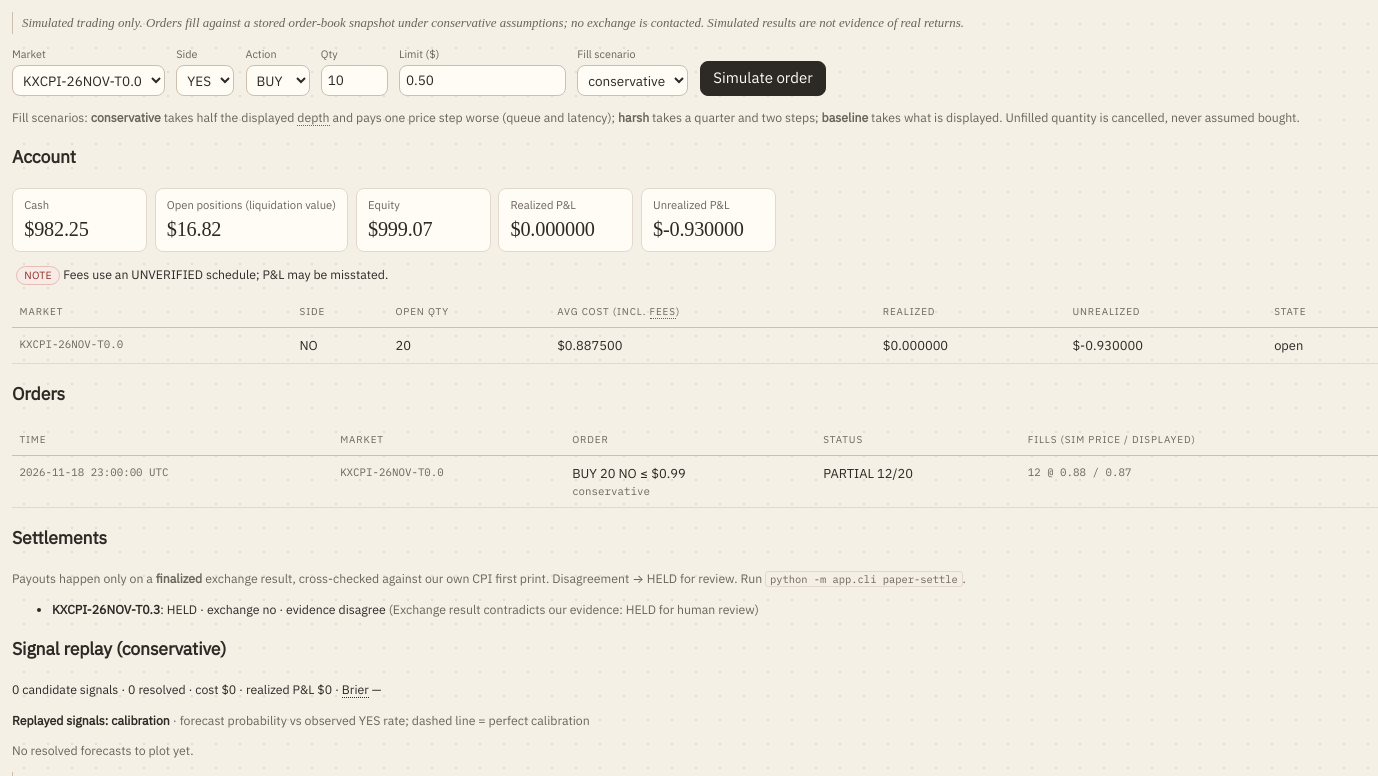
Test case: <PaperPanel> › submits a simulated order with the CSRF header, JSON body and an idempotency key
Select "NO" in the dropdown labelled "Side": (205, 80) [176, 65, 234, 96]
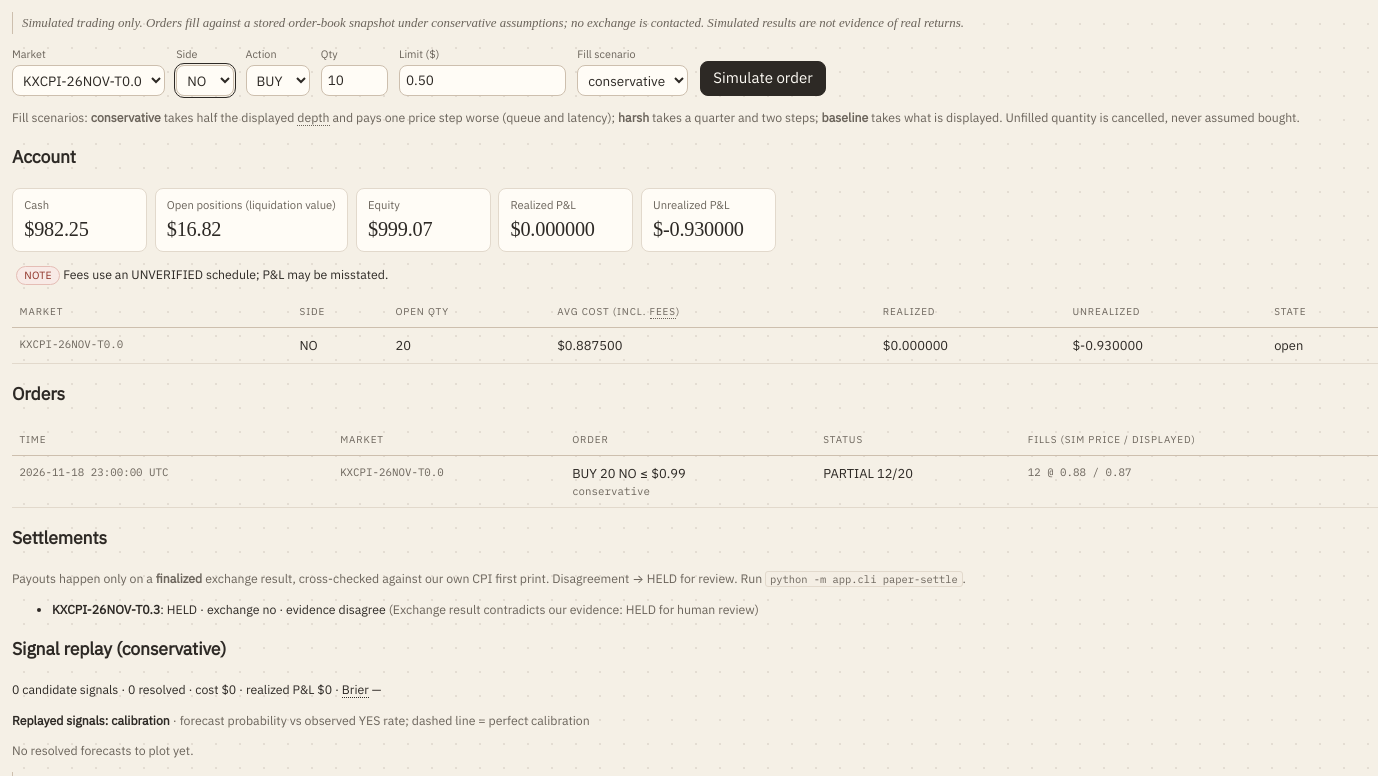
Replace the text in the field labelled "Limit ($)" with "0.99": (482, 80) [399, 65, 566, 96]
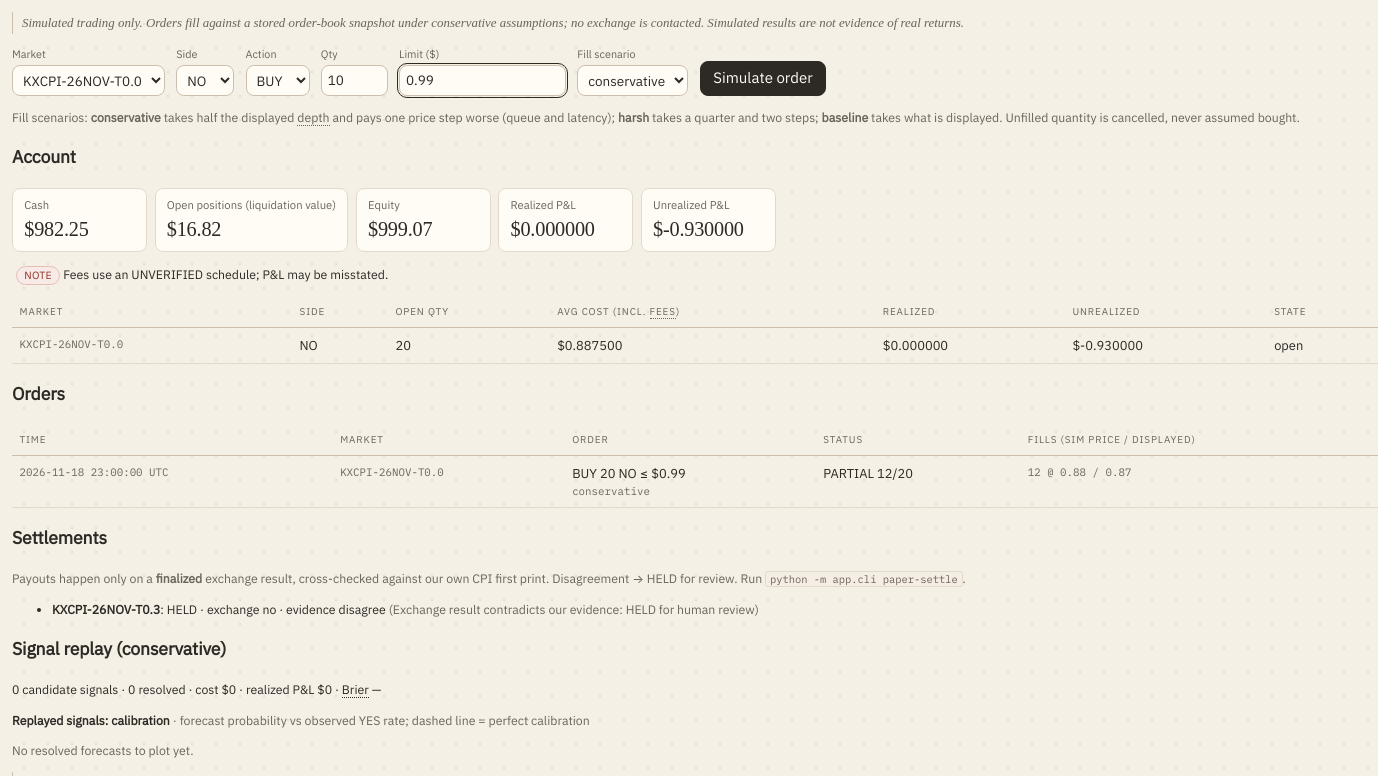
Click the button "Simulate order": (763, 78) [700, 61, 826, 96]
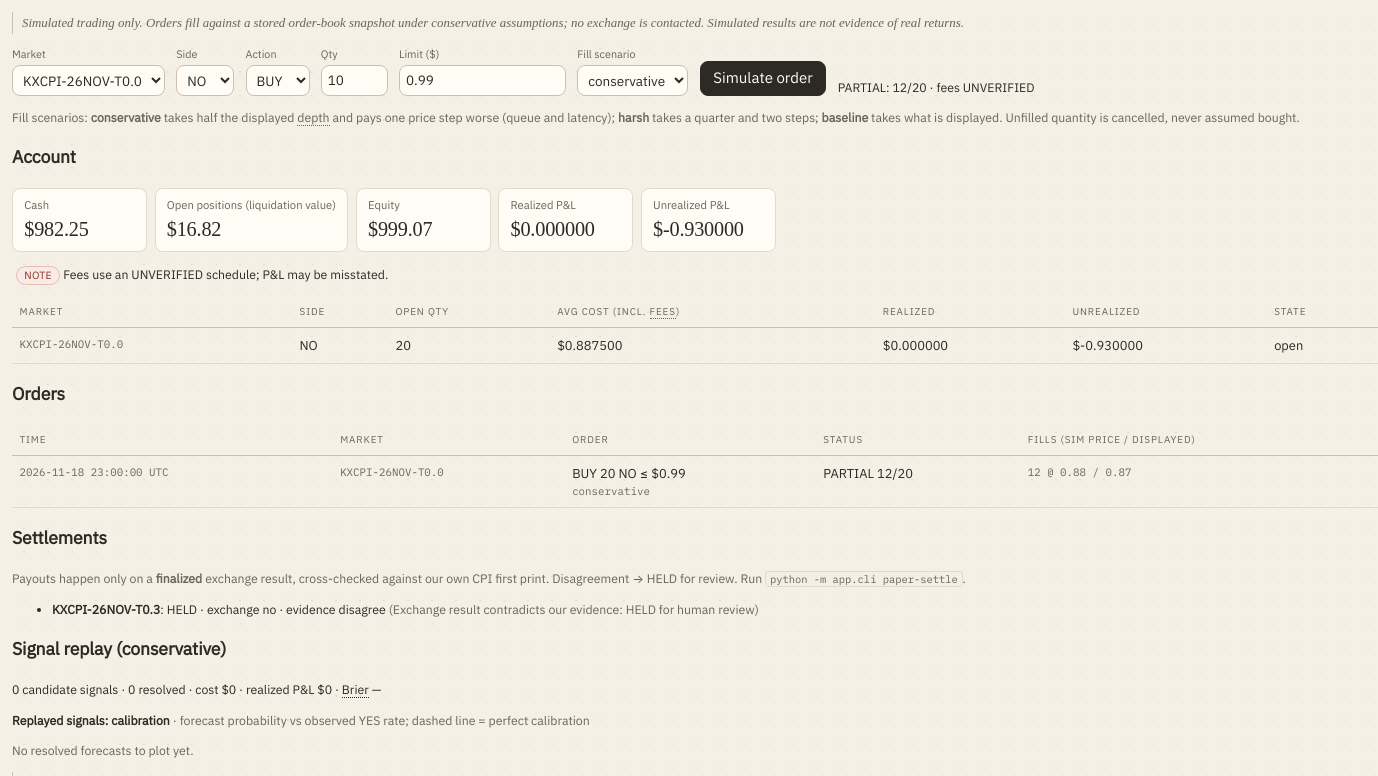
Expected: the text "PARTIAL: 12/20 · fees UNVERIFIED" is shown, [838, 78, 1034, 96]
